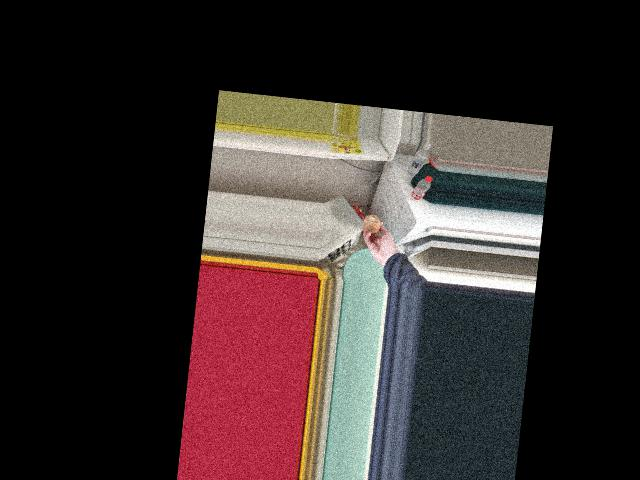sweet_potato: (363, 214, 381, 236)
